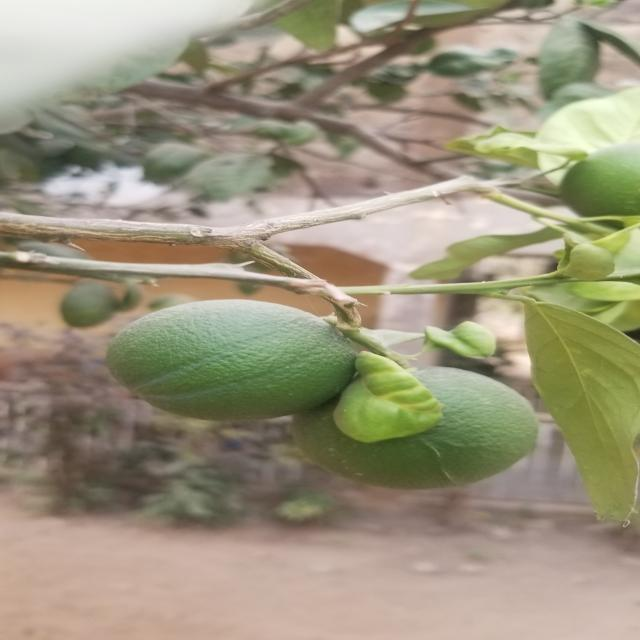Unripe: (78, 294, 356, 432), (300, 360, 542, 497)
